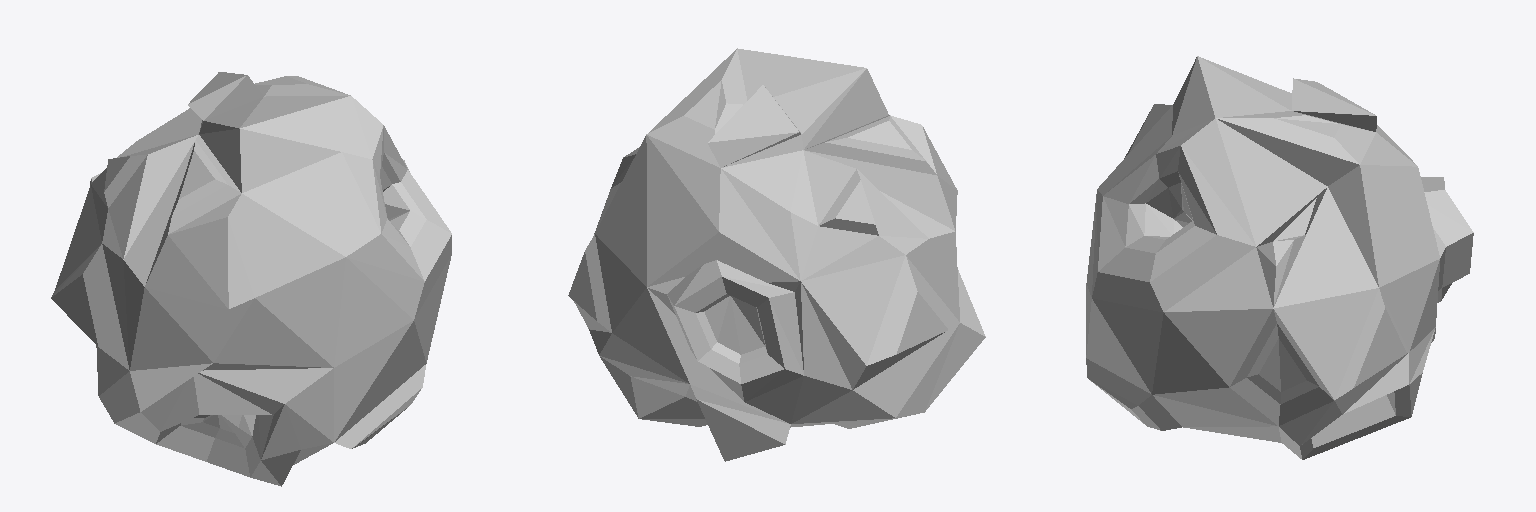
File: meteoro mediano.obj
3 renders of one model, left to right at view 1: azimuth 30°, elevation 25°; view 2: azimuth 150°, elevation 25°; view 3: azimuth 270°, elevation 25°, orthographic.
Parts seen in each view (by area): view 1: METEORI_Icosphere; view 2: METEORI_Icosphere; view 3: METEORI_Icosphere.
Part boxes in pixels (x1,y1,x2,y2): METEORI_Icosphere: (51, 72, 451, 486); METEORI_Icosphere: (568, 48, 985, 461); METEORI_Icosphere: (1086, 56, 1473, 459).
Size of the model in its own units: 4.26 by 4.25 by 4.23.